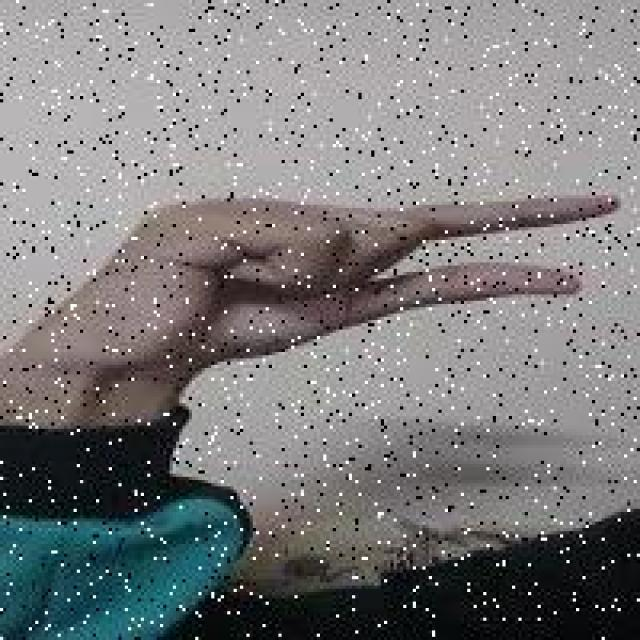G: (40, 187, 622, 370)
